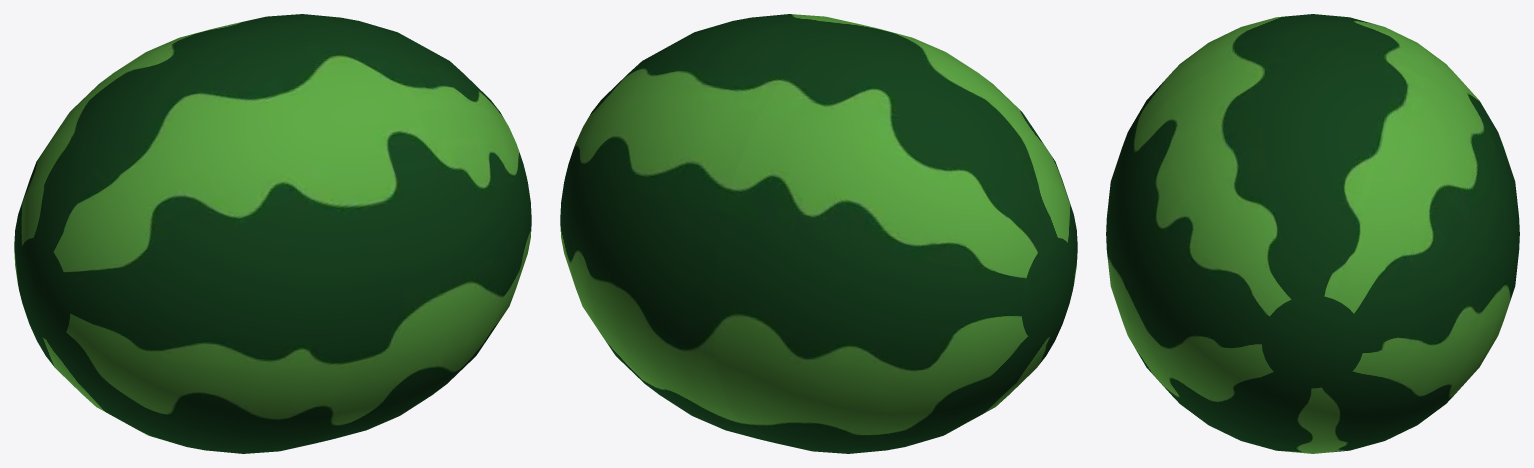
Rendered from Watermelon_pieces.fbx.
The picture shows the model from 3 angles, left to right: view 1: azimuth 30°, elevation 25°; view 2: azimuth 150°, elevation 25°; view 3: azimuth 270°, elevation 25°; orthographic projection. The views are drawn at different scales.
Parts seen in each view (by area): view 1: Watermelon_piece_01, Watermelon_piece_02; view 2: Watermelon_piece_01, Watermelon_piece_02; view 3: Watermelon_piece_02, Watermelon_piece_01.
Part boxes in pixels (x1,y1,x2,y2): Watermelon_piece_01: (14,24,380,453); Watermelon_piece_02: (232,14,531,438); Watermelon_piece_01: (711,24,1077,453); Watermelon_piece_02: (560,14,859,438); Watermelon_piece_02: (1106,46,1519,453); Watermelon_piece_01: (1106,14,1519,232).
Size of the model in its own units: 512 by 401 by 401.
